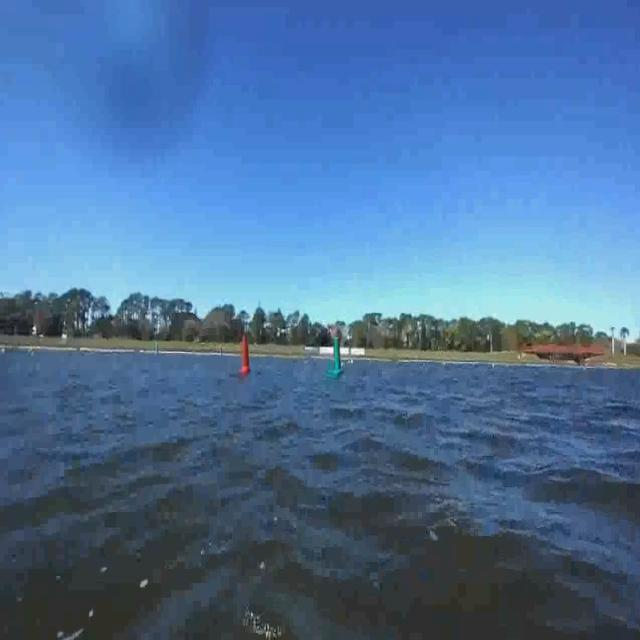green-column-buoy: (330, 319, 345, 381)
red-column-buoy: (230, 338, 256, 375)
